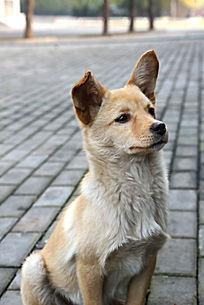dog: (64, 43, 180, 179)
